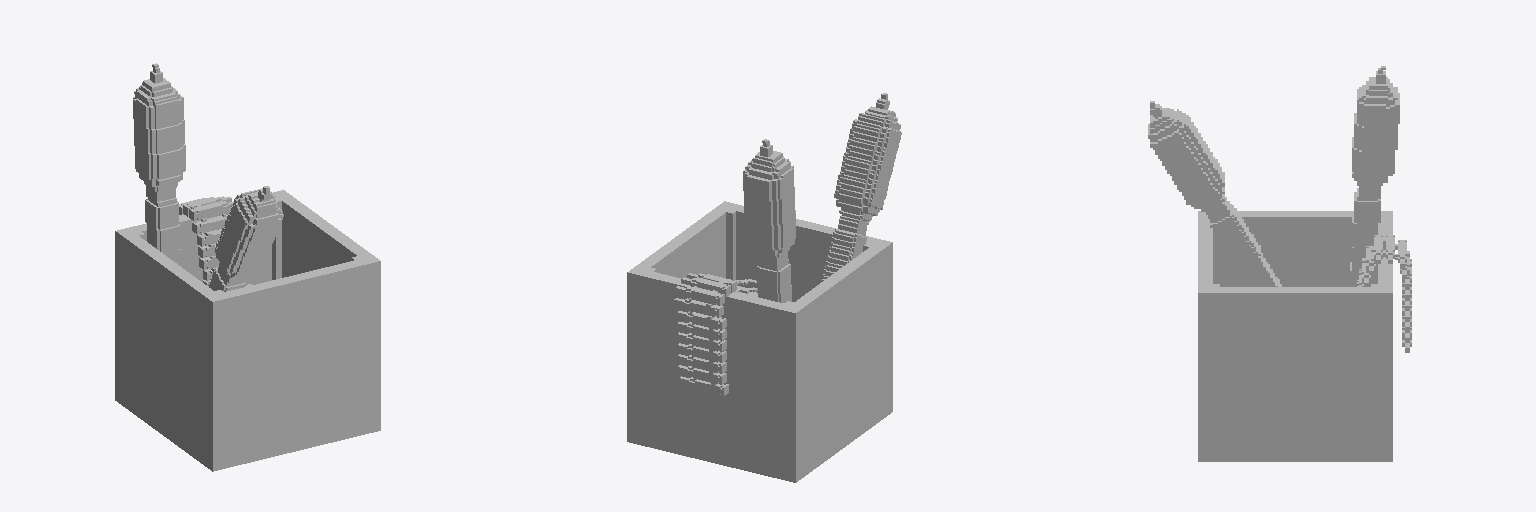
The model's file is ammo.obj.
The picture shows the model from 3 angles: view 1: azimuth 30°, elevation 25°; view 2: azimuth 150°, elevation 25°; view 3: azimuth 270°, elevation 25°; orthographic projection.
Parts seen in each view (by area): view 1: object 1; view 2: object 1; view 3: object 1.
Boxes of the visible parts, x1,y1,x2,y2 form: object 1: [115, 63, 380, 471]; object 1: [627, 93, 901, 482]; object 1: [1148, 66, 1411, 461].
Size of the model in its own units: 8.1 by 15.2 by 11.